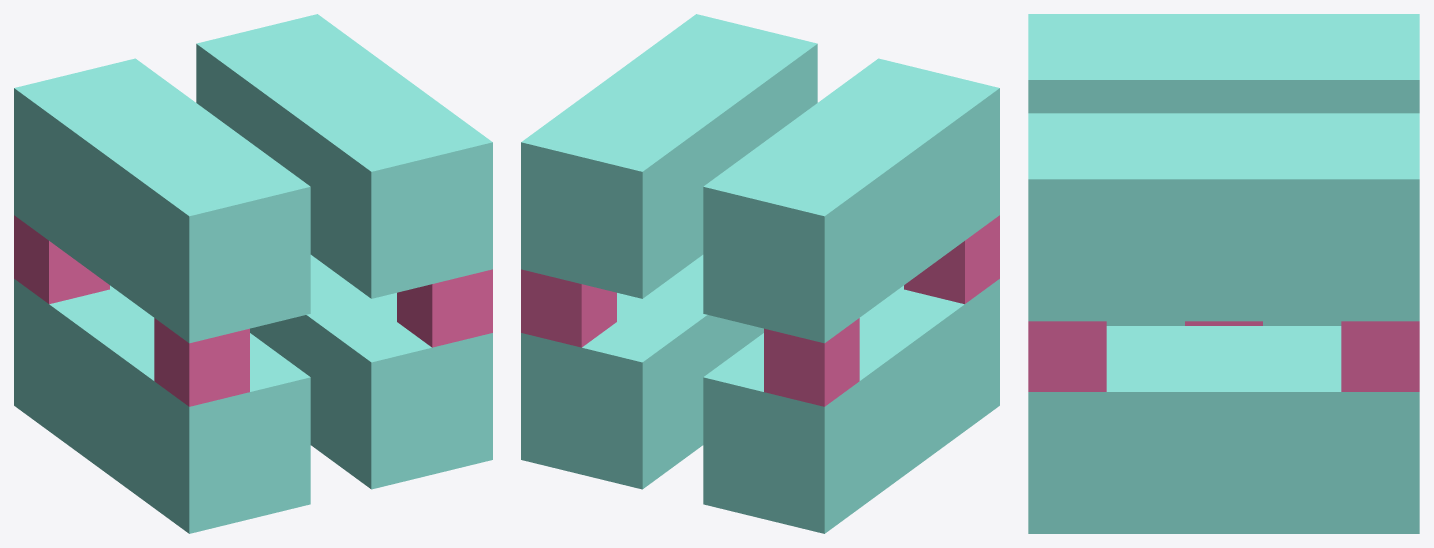
Rendered from Ren.fbx.
3 renders of one model, left to right at view 1: azimuth 30°, elevation 25°; view 2: azimuth 150°, elevation 25°; view 3: azimuth 270°, elevation 25°, orthographic. The views are drawn at different scales.
Parts seen in each view (by area): view 1: Ren; view 2: Ren; view 3: Ren.
Part boxes in pixels (x1,y1,x2,y2): Ren: [14, 14, 492, 533]; Ren: [521, 14, 999, 533]; Ren: [1028, 14, 1419, 533].
Bounding box in the file's own units: 10 × 10 × 10.
Materials: 1 (1 with a texture image).
